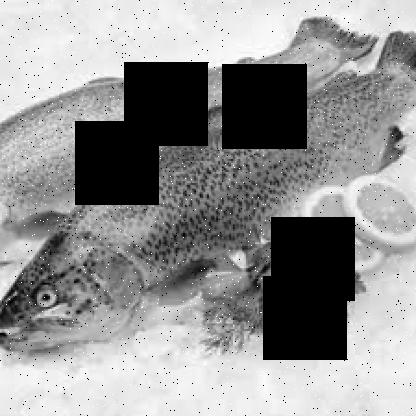fish: (0, 31, 414, 354)
